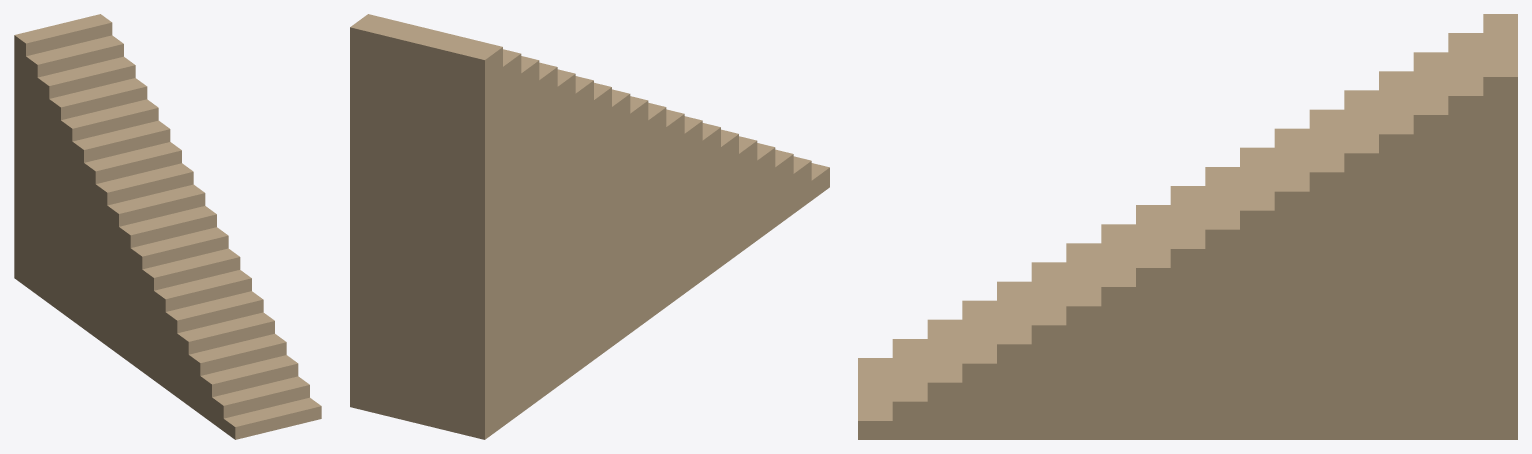
File: bh_villa_stair_01_lod0.glb
The picture shows the model from 3 angles, left to right: view 1: azimuth 30°, elevation 25°; view 2: azimuth 150°, elevation 25°; view 3: azimuth 270°, elevation 25°; orthographic projection. The views are drawn at different scales.
Parts seen in each view (by area): view 1: bh_villa_stair_01_step_18, bh_villa_stair_01_step_16, bh_villa_stair_01_step_17, bh_villa_stair_01_step_15, bh_villa_stair_01_step_14, bh_villa_stair_01_step_13, bh_villa_stair_01_step_11, bh_villa_stair_01_step_12, bh_villa_stair_01_step_10, bh_villa_stair_01_step_09, bh_villa_stair_01_step_08, bh_villa_stair_01_step_07 (+7 smaller); view 2: bh_villa_stair_01_step_18, bh_villa_stair_01_step_17, bh_villa_stair_01_step_16, bh_villa_stair_01_step_15, bh_villa_stair_01_step_14, bh_villa_stair_01_step_13, bh_villa_stair_01_step_12, bh_villa_stair_01_step_11, bh_villa_stair_01_step_10, bh_villa_stair_01_step_09, bh_villa_stair_01_step_08, bh_villa_stair_01_step_07 (+7 smaller); view 3: bh_villa_stair_01_step_18, bh_villa_stair_01_step_17, bh_villa_stair_01_step_16, bh_villa_stair_01_step_15, bh_villa_stair_01_step_14, bh_villa_stair_01_step_13, bh_villa_stair_01_step_12, bh_villa_stair_01_step_11, bh_villa_stair_01_step_10, bh_villa_stair_01_step_09, bh_villa_stair_01_step_08, bh_villa_stair_01_step_07 (+7 smaller).
Part boxes in pixels (bbox=[...]): bh_villa_stair_01_step_18: bbox=[14, 14, 112, 286]; bh_villa_stair_01_step_16: bbox=[37, 56, 135, 303]; bh_villa_stair_01_step_17: bbox=[26, 35, 123, 294]; bh_villa_stair_01_step_15: bbox=[49, 78, 147, 311]; bh_villa_stair_01_step_14: bbox=[61, 99, 158, 320]; bh_villa_stair_01_step_13: bbox=[72, 120, 170, 328]; bh_villa_stair_01_step_11: bbox=[95, 163, 193, 345]; bh_villa_stair_01_step_12: bbox=[84, 142, 181, 337]; bh_villa_stair_01_step_10: bbox=[107, 184, 205, 354]; bh_villa_stair_01_step_09: bbox=[119, 206, 216, 362]; bh_villa_stair_01_step_08: bbox=[130, 227, 228, 371]; bh_villa_stair_01_step_07: bbox=[142, 248, 240, 379]; bh_villa_stair_01_step_18: bbox=[350, 14, 502, 439]; bh_villa_stair_01_step_17: bbox=[503, 49, 521, 426]; bh_villa_stair_01_step_16: bbox=[521, 56, 539, 412]; bh_villa_stair_01_step_15: bbox=[539, 62, 557, 399]; bh_villa_stair_01_step_14: bbox=[557, 69, 575, 386]; bh_villa_stair_01_step_13: bbox=[575, 76, 593, 372]; bh_villa_stair_01_step_12: bbox=[594, 82, 611, 359]; bh_villa_stair_01_step_11: bbox=[612, 89, 630, 346]; bh_villa_stair_01_step_10: bbox=[630, 96, 648, 332]; bh_villa_stair_01_step_09: bbox=[648, 102, 666, 319]; bh_villa_stair_01_step_08: bbox=[666, 109, 684, 306]; bh_villa_stair_01_step_07: bbox=[684, 116, 702, 293]; bh_villa_stair_01_step_18: bbox=[1483, 14, 1517, 439]; bh_villa_stair_01_step_17: bbox=[1448, 33, 1483, 439]; bh_villa_stair_01_step_16: bbox=[1413, 52, 1448, 439]; bh_villa_stair_01_step_15: bbox=[1379, 71, 1413, 439]; bh_villa_stair_01_step_14: bbox=[1344, 90, 1378, 439]; bh_villa_stair_01_step_13: bbox=[1309, 109, 1344, 439]; bh_villa_stair_01_step_12: bbox=[1274, 128, 1309, 439]; bh_villa_stair_01_step_11: bbox=[1240, 147, 1274, 439]; bh_villa_stair_01_step_10: bbox=[1205, 167, 1239, 439]; bh_villa_stair_01_step_09: bbox=[1170, 186, 1205, 439]; bh_villa_stair_01_step_08: bbox=[1136, 205, 1170, 439]; bh_villa_stair_01_step_07: bbox=[1101, 224, 1135, 439].
Bounding box in the file's own units: 1.2 × 3.23 × 5.32.
